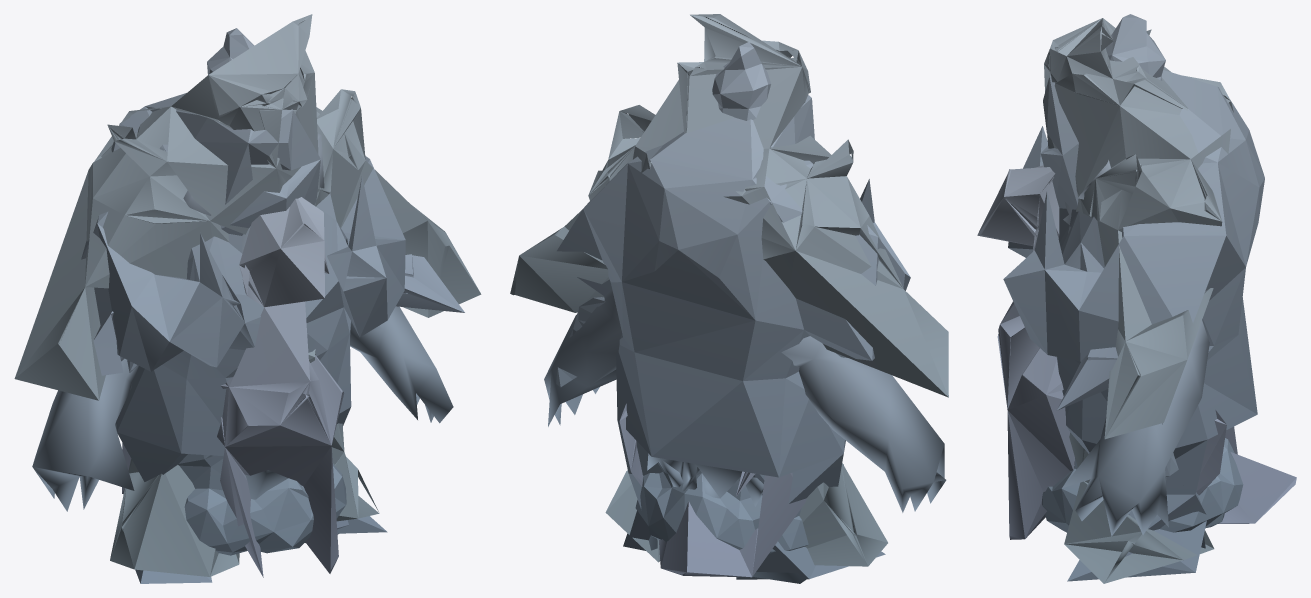
Rendered from giants_far.glb.
3 renders of one model, left to right at view 1: azimuth 30°, elevation 25°; view 2: azimuth 150°, elevation 25°; view 3: azimuth 270°, elevation 25°, orthographic.
Visible parts, largest first — view 1: far_giant_treefolk, far_giant_ogre, far_giant_dragon, far_giant_firegiant, far_giant_cloudgiant, far_giant_frostgiant; view 2: far_giant_ogre, far_giant_treefolk, far_giant_firegiant, far_giant_cloudgiant, far_giant_dragon, far_giant_cyclops; view 3: far_giant_ogre, far_giant_treefolk, far_giant_dragon, far_giant_firegiant, far_giant_cloudgiant, far_giant_frostgiant.
Part boxes in pixels (x1,y1,x2,y2): far_giant_treefolk: (14, 14, 481, 576); far_giant_ogre: (81, 93, 405, 583); far_giant_dragon: (122, 197, 344, 577); far_giant_firegiant: (32, 133, 453, 542); far_giant_cloudgiant: (127, 28, 346, 555); far_giant_frostgiant: (93, 254, 464, 529); far_giant_ogre: (557, 95, 910, 579); far_giant_treefolk: (510, 14, 948, 566); far_giant_firegiant: (544, 289, 946, 583); far_giant_cloudgiant: (635, 42, 843, 553); far_giant_dragon: (619, 403, 806, 577); far_giant_cyclops: (556, 297, 605, 387); far_giant_ogre: (1003, 70, 1264, 581); far_giant_treefolk: (1044, 18, 1233, 583); far_giant_dragon: (977, 165, 1296, 539); far_giant_firegiant: (1062, 160, 1209, 548); far_giant_cloudgiant: (1042, 14, 1243, 532); far_giant_frostgiant: (1056, 347, 1117, 410).
Bounding box in the file's own units: 34.43 × 38.57 × 21.36.
